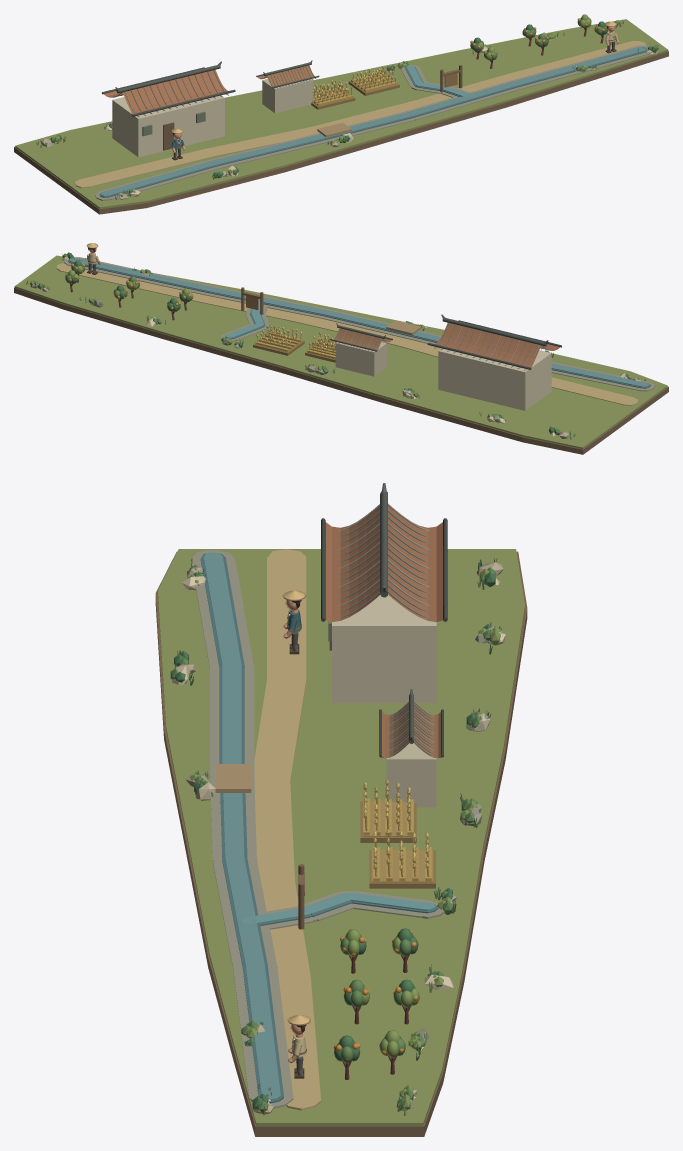
Rendered from valencia.glb.
The picture shows the model from 3 angles, top to bottom: view 1: azimuth 30°, elevation 25°; view 2: azimuth 150°, elevation 25°; view 3: azimuth 270°, elevation 25°; orthographic projection. The views are drawn at different scales.
Parts seen in each view (by area): view 1: TerrainAndBuildings; view 2: TerrainAndBuildings; view 3: TerrainAndBuildings.
Part boxes in pixels (x1,y1,x2,y2): TerrainAndBuildings: [14, 14, 668, 214]; TerrainAndBuildings: [14, 252, 668, 454]; TerrainAndBuildings: [155, 483, 527, 1136].
Bounding box in the file's own units: 1.73 × 0.2038 × 0.4717.
